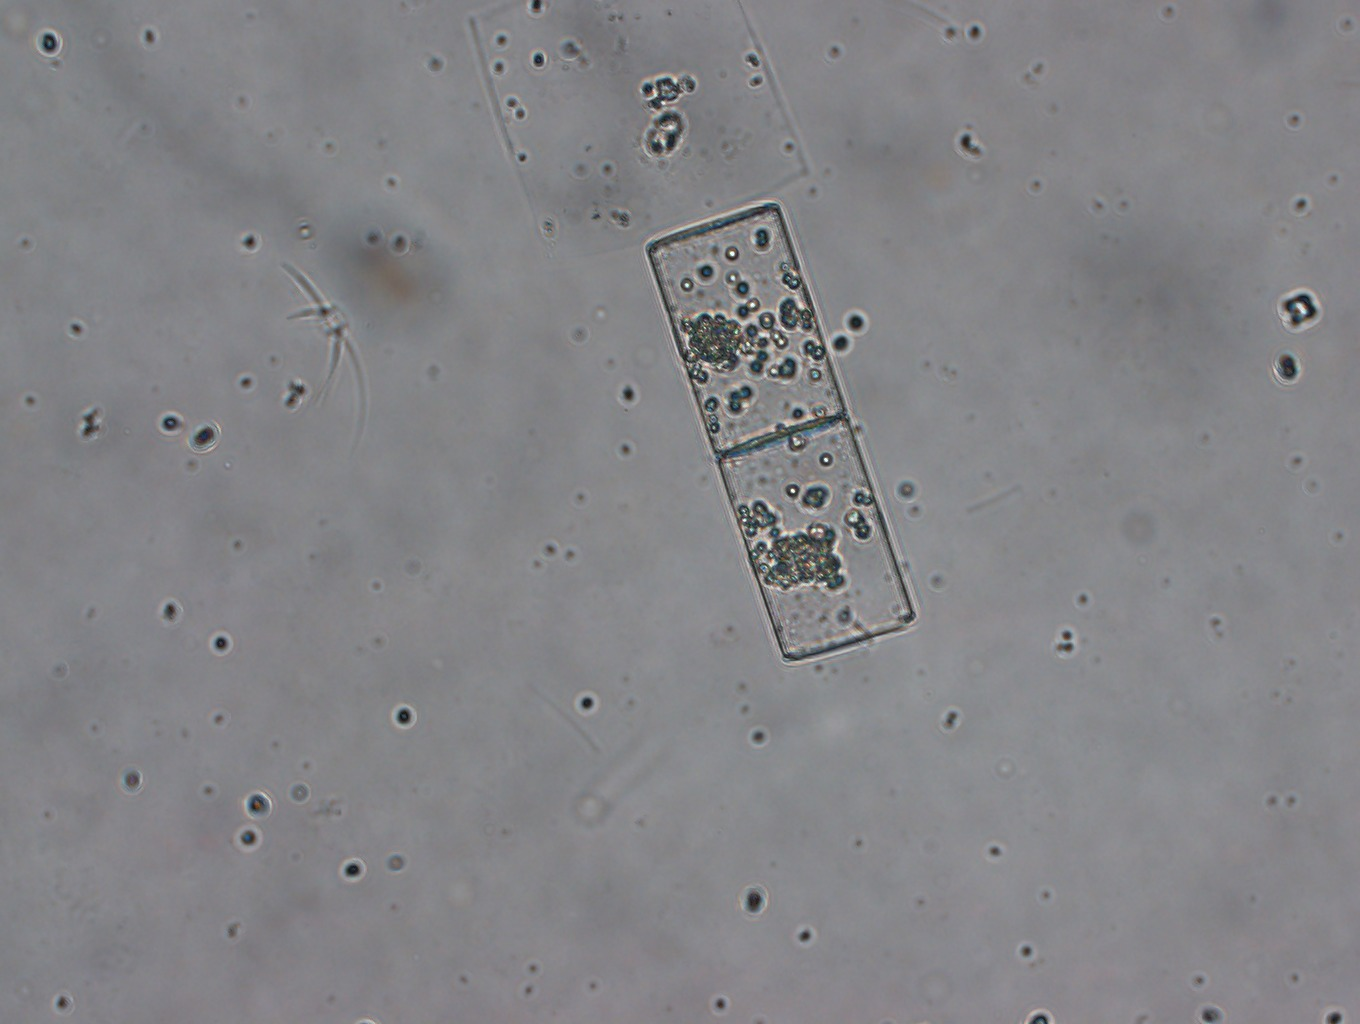chaetoceros: (274, 259, 368, 445)
guinardia flaccida: (641, 196, 917, 665), (473, 1, 811, 261)
